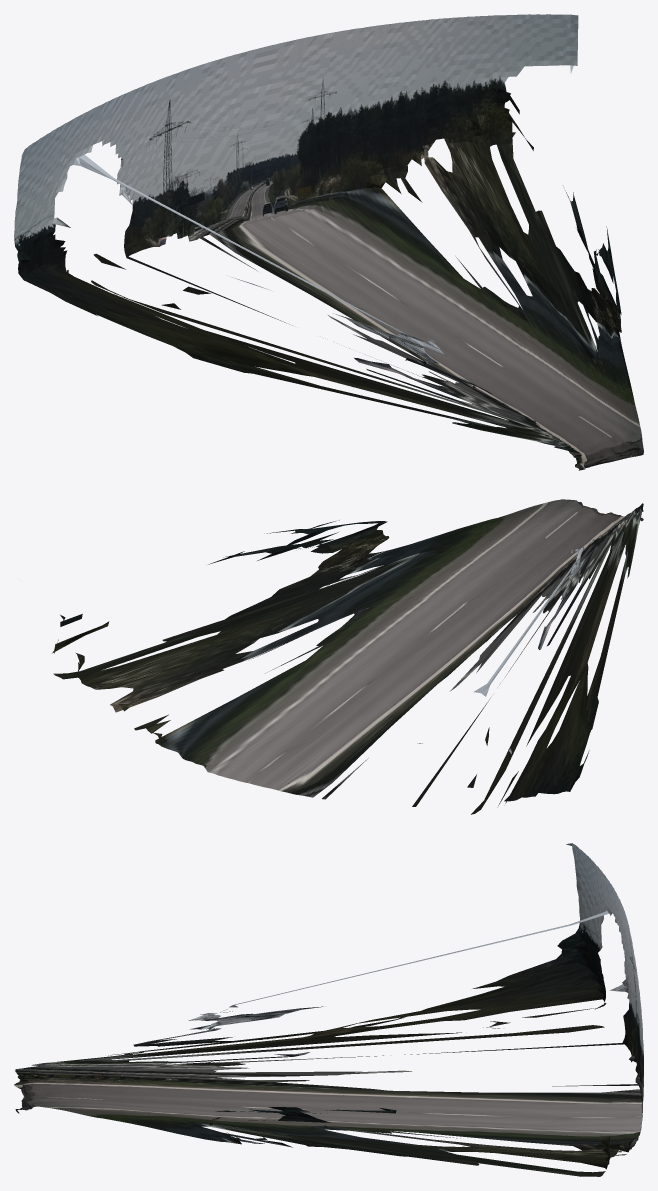
3 renders of one model, top to bottom at view 1: azimuth 30°, elevation 25°; view 2: azimuth 150°, elevation 25°; view 3: azimuth 270°, elevation 25°, orthographic. The views are drawn at different scales.
Visible parts, largest first — view 1: defaultobject; view 2: defaultobject; view 3: defaultobject.
Part boxes in pixels (bbox=[...]): defaultobject: bbox=[14, 14, 643, 470]; defaultobject: bbox=[52, 499, 643, 814]; defaultobject: bbox=[14, 843, 643, 1176].
Size of the model in its own units: 41.02 by 12.71 by 44.65.
Materials: 1 (1 with a texture image).
